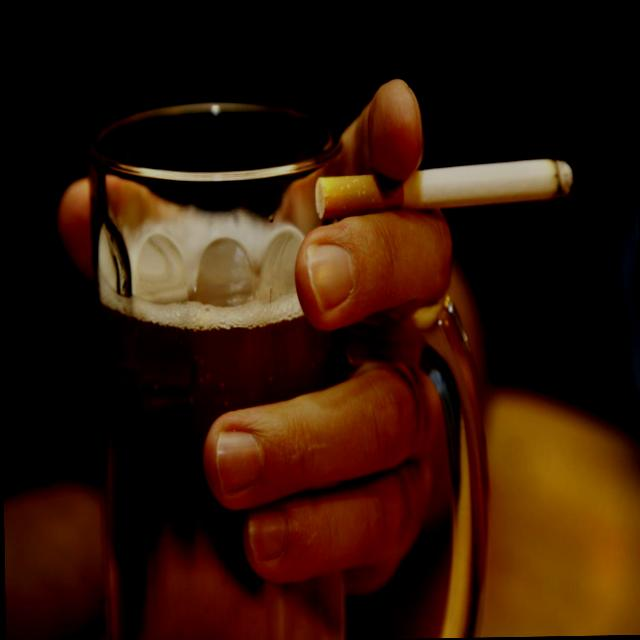smoke: (296, 112, 612, 254)
